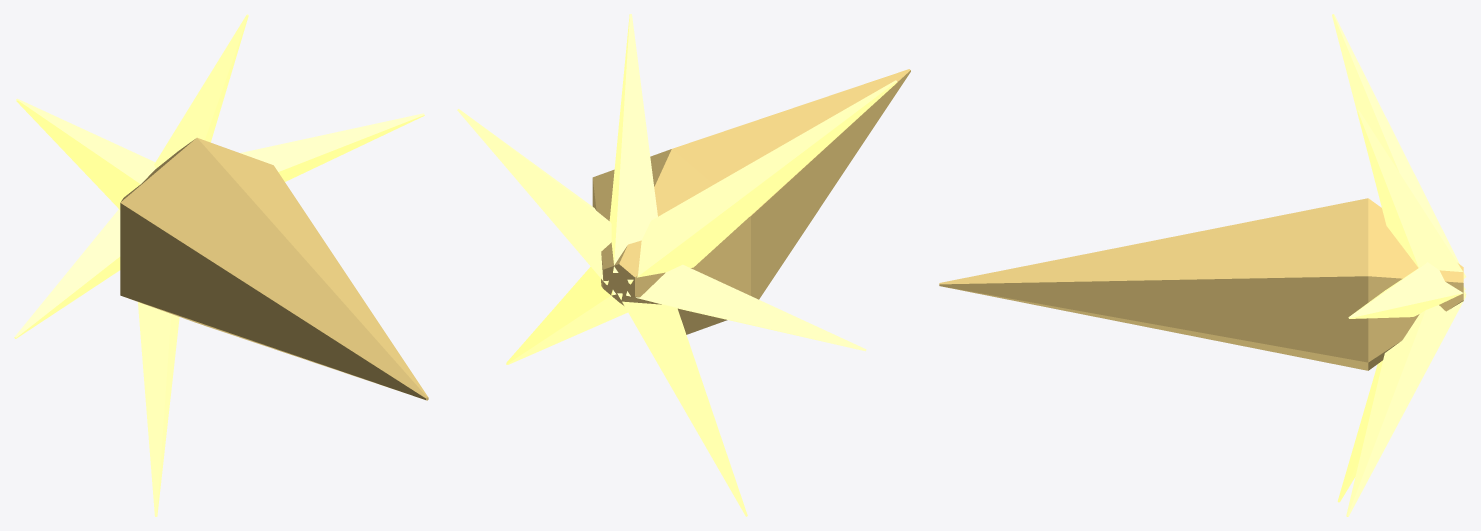
The model's file is SM_MuzzleFlash_Big.fbx.
3 renders of one model, left to right at view 1: azimuth 30°, elevation 25°; view 2: azimuth 150°, elevation 25°; view 3: azimuth 270°, elevation 25°, orthographic. The views are drawn at different scales.
Visible parts, largest first — view 1: MuzzleFlash_Big; view 2: MuzzleFlash_Big; view 3: MuzzleFlash_Big.
Part boxes in pixels (x1,y1,x2,y2): MuzzleFlash_Big: (14,14,428,516); MuzzleFlash_Big: (457,14,910,516); MuzzleFlash_Big: (939,14,1466,516).
Size of the model in its own units: 104 by 122 by 112.
